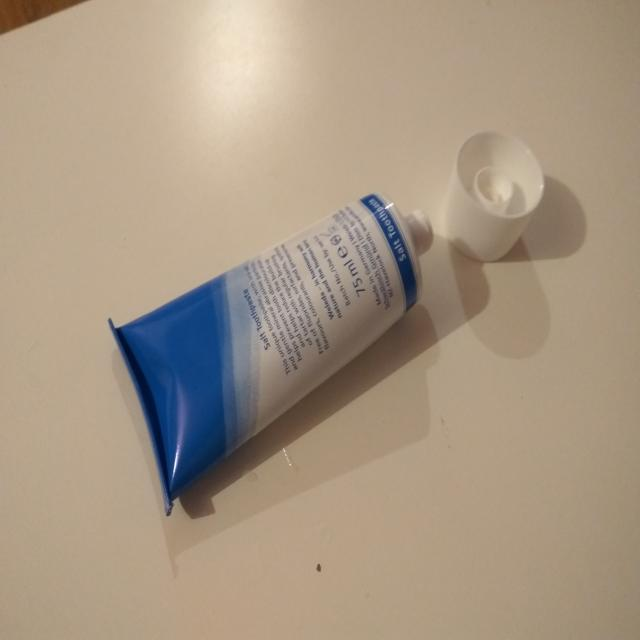toothpaste: (93, 177, 451, 536)
